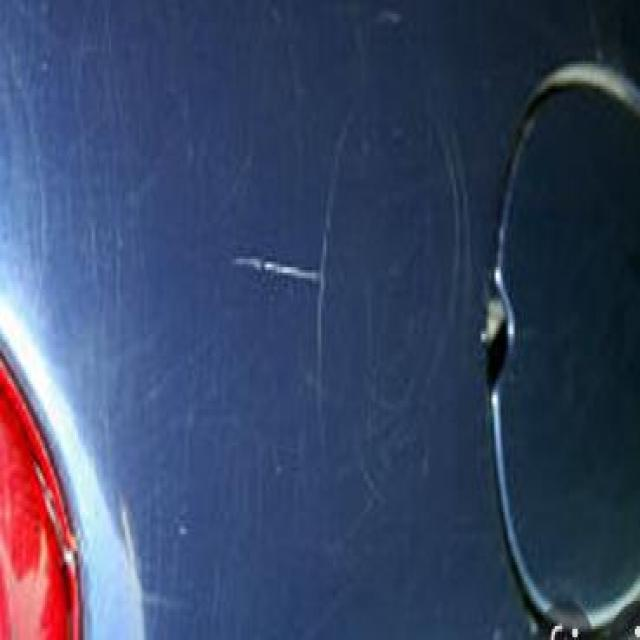scratch: (224, 240, 334, 308)
